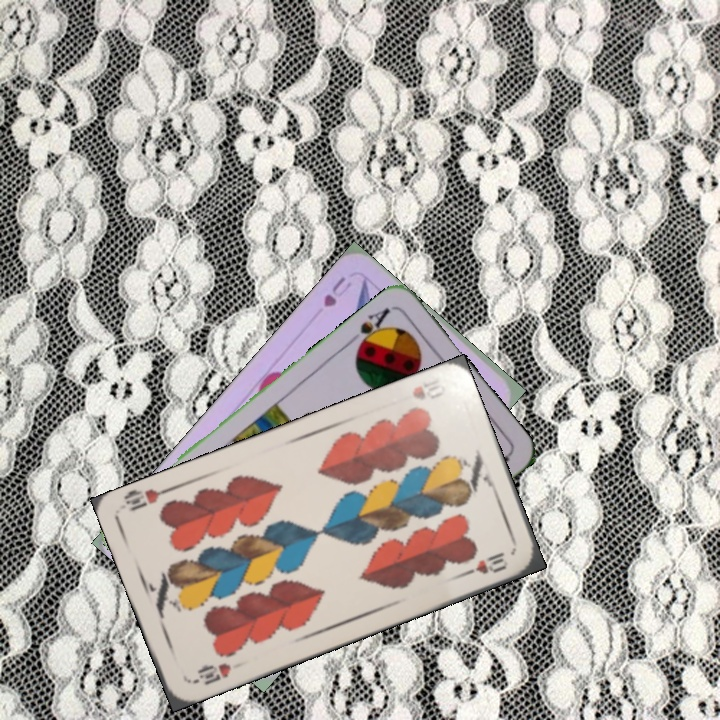H10: (189, 659, 234, 688), (408, 378, 449, 403)
HU: (319, 272, 355, 310)
SA: (352, 303, 393, 354)
